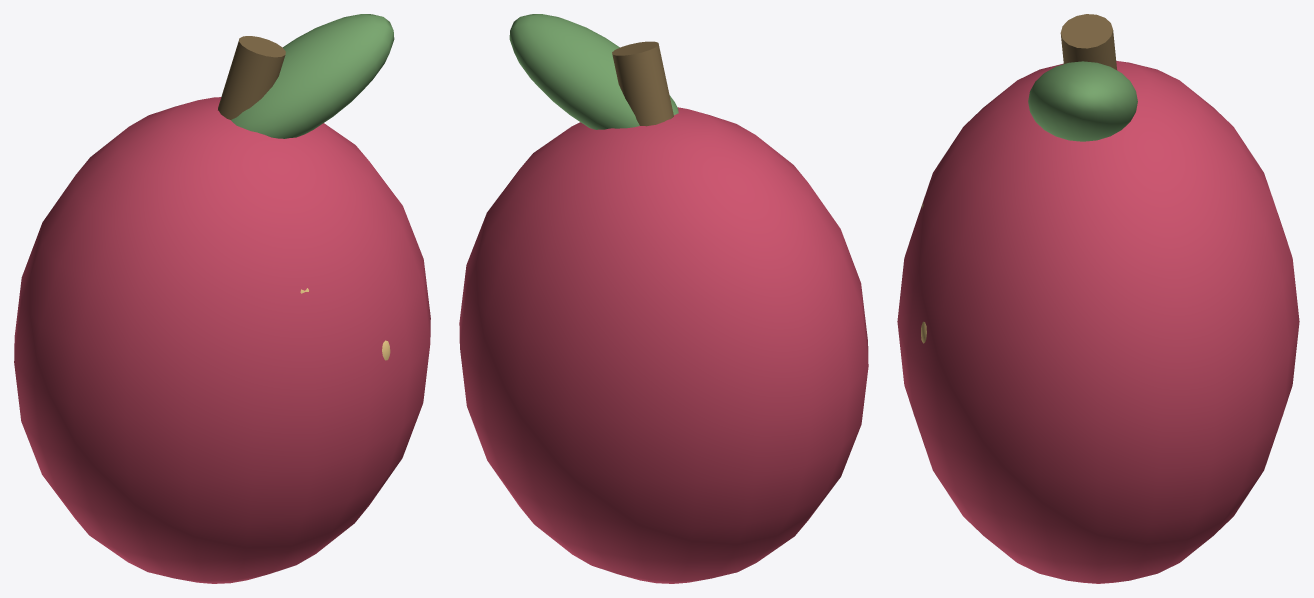
File: berry.glb
3 renders of one model, left to right at view 1: azimuth 30°, elevation 25°; view 2: azimuth 150°, elevation 25°; view 3: azimuth 270°, elevation 25°, orthographic. The views are drawn at different scales.
Visible parts, largest first — view 1: ball (×2), tube; view 2: ball (×2), tube; view 3: ball (×2), tube.
Part boxes in pixels (box(x1,y1,x2,y2)): ball (×2): box(14, 14, 430, 583); tube: box(218, 36, 285, 119); ball (×2): box(459, 14, 868, 583); tube: box(612, 41, 673, 126); ball (×2): box(897, 61, 1299, 583); tube: box(1060, 14, 1117, 70).
Size of the model in its own units: 0.6 by 0.7997 by 0.52.
